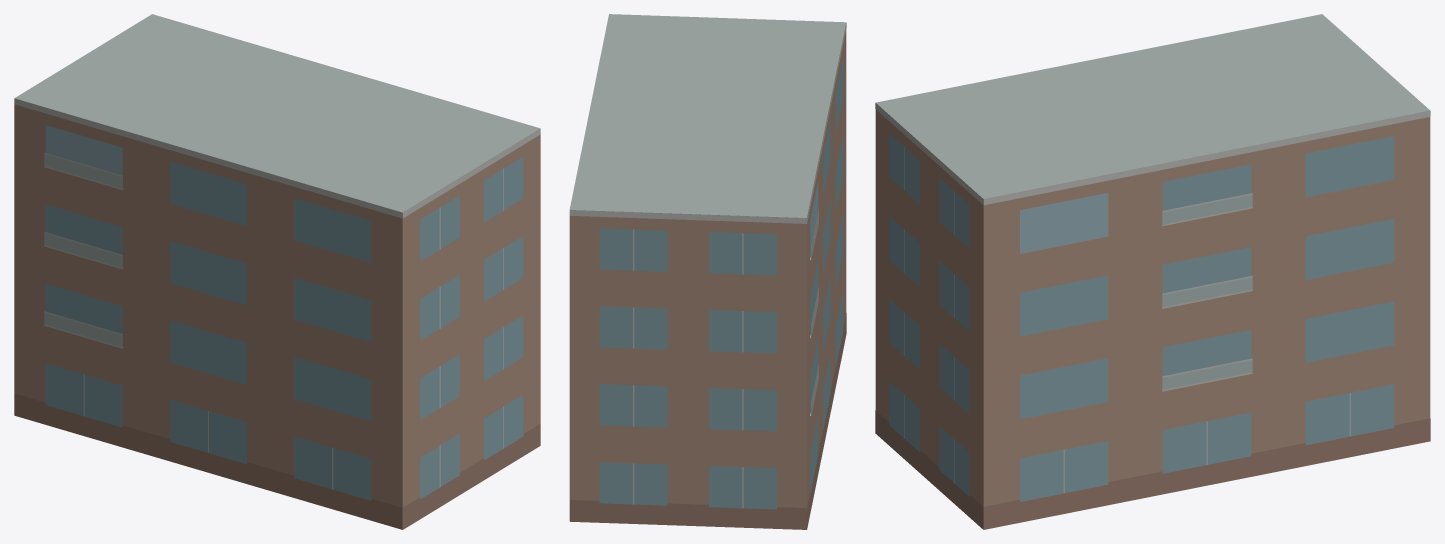
The model's file is survey-upis-32737869.glb.
The picture shows the model from 3 angles, left to right: view 1: azimuth 30°, elevation 25°; view 2: azimuth 150°, elevation 25°; view 3: azimuth 270°, elevation 25°; orthographic projection. The views are drawn at different scales.
Parts seen in each view (by area): view 1: survey-upis-32737869.tmp; view 2: survey-upis-32737869.tmp; view 3: survey-upis-32737869.tmp.
Boxes of the visible parts, x1,y1,x2,y2 form: survey-upis-32737869.tmp: (14,14,540,529); survey-upis-32737869.tmp: (569,14,846,529); survey-upis-32737869.tmp: (875,14,1430,529).
Size of the model in its own units: 15.55 by 12.95 by 19.7.
